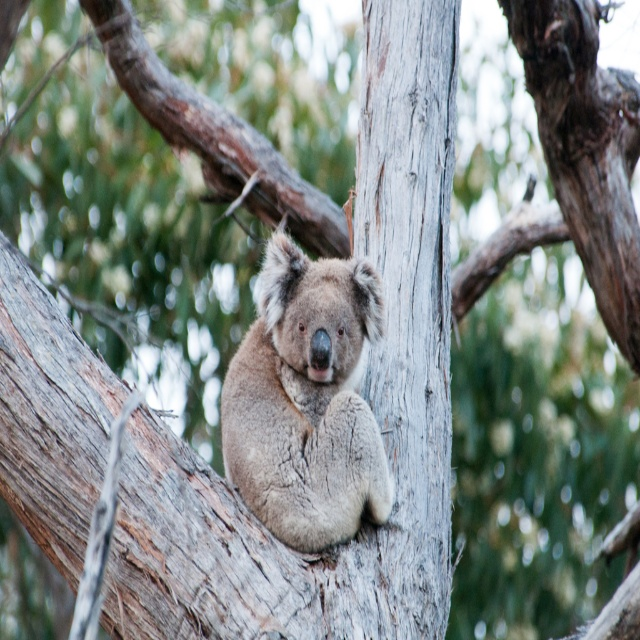Koala: (222, 231, 395, 558)
